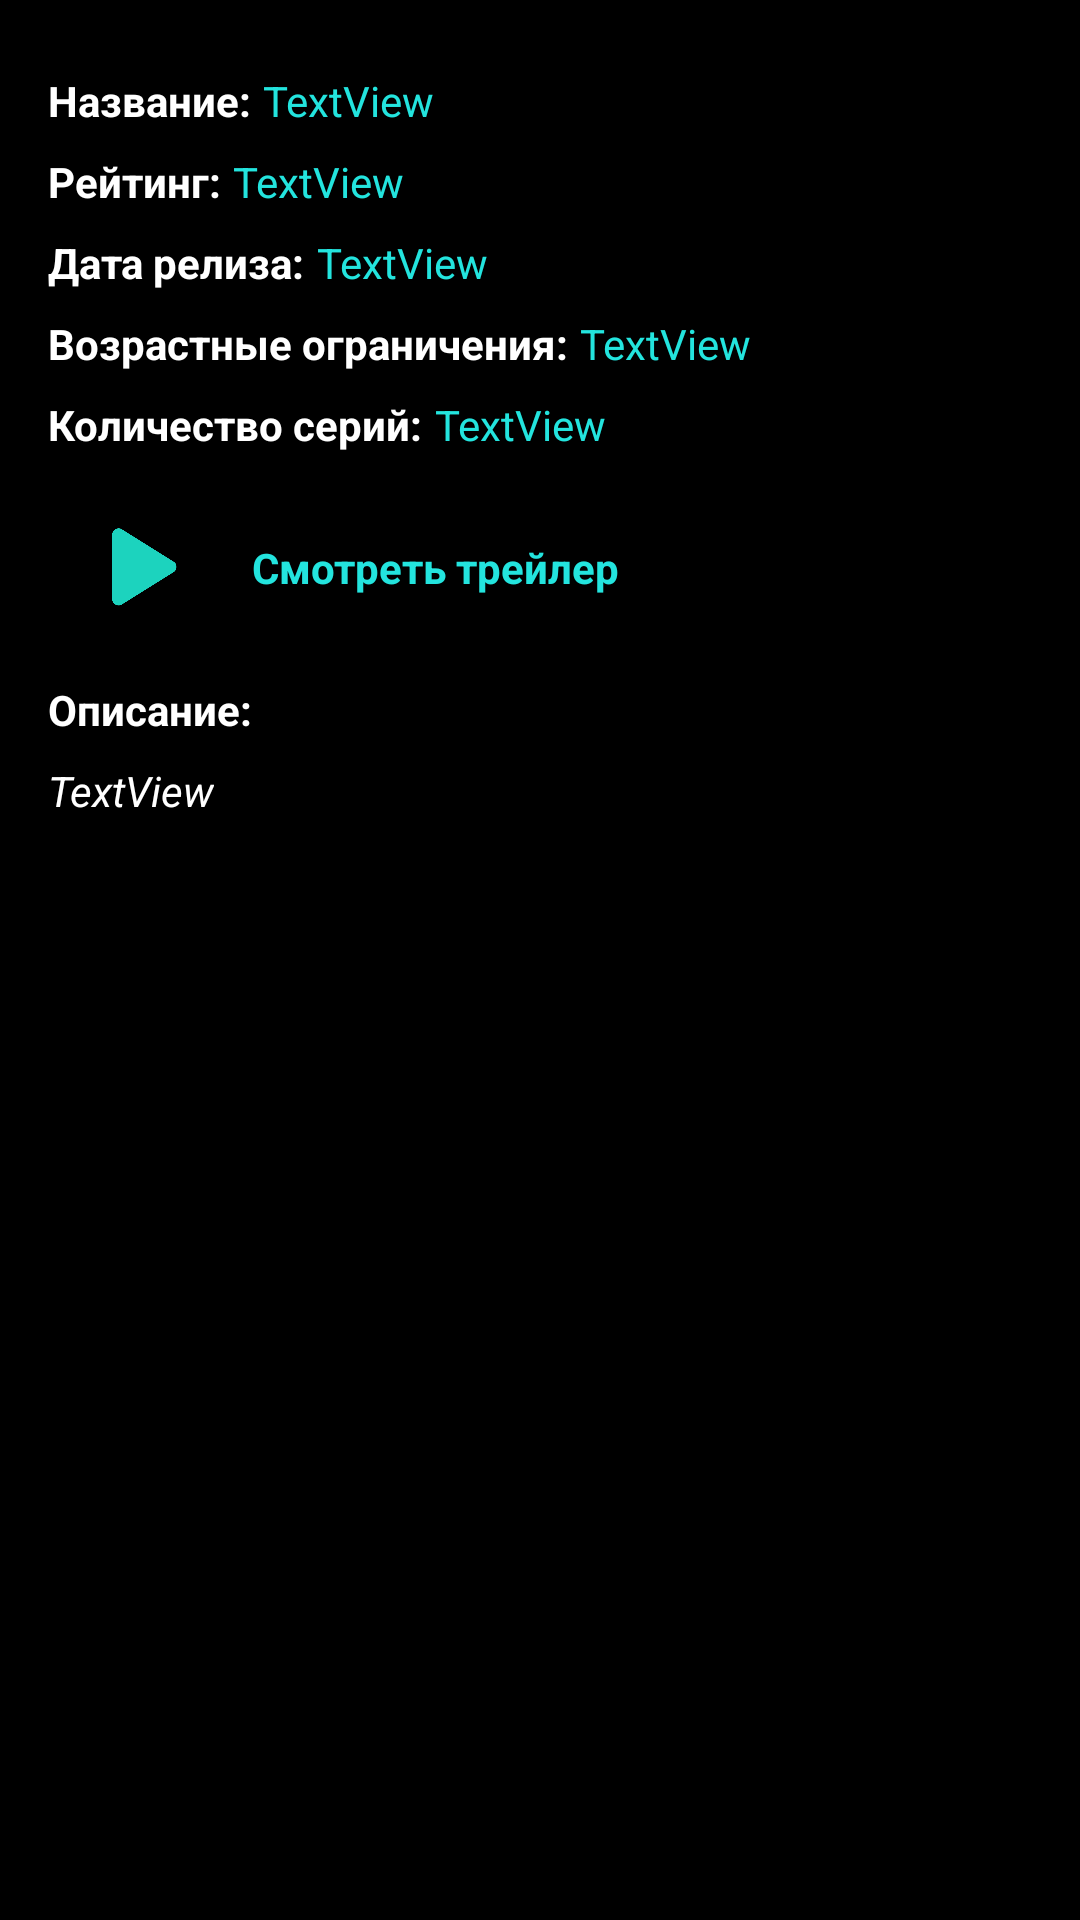

Icon bounding boxes for this 1080 x 1920 phone screenshot, format {"x1": x1, "y1": y1, "x2": x2, "y2": y2}:
Кнопка просмотра трейлера: {"x1": 112, "y1": 528, "x2": 177, "y2": 606}
